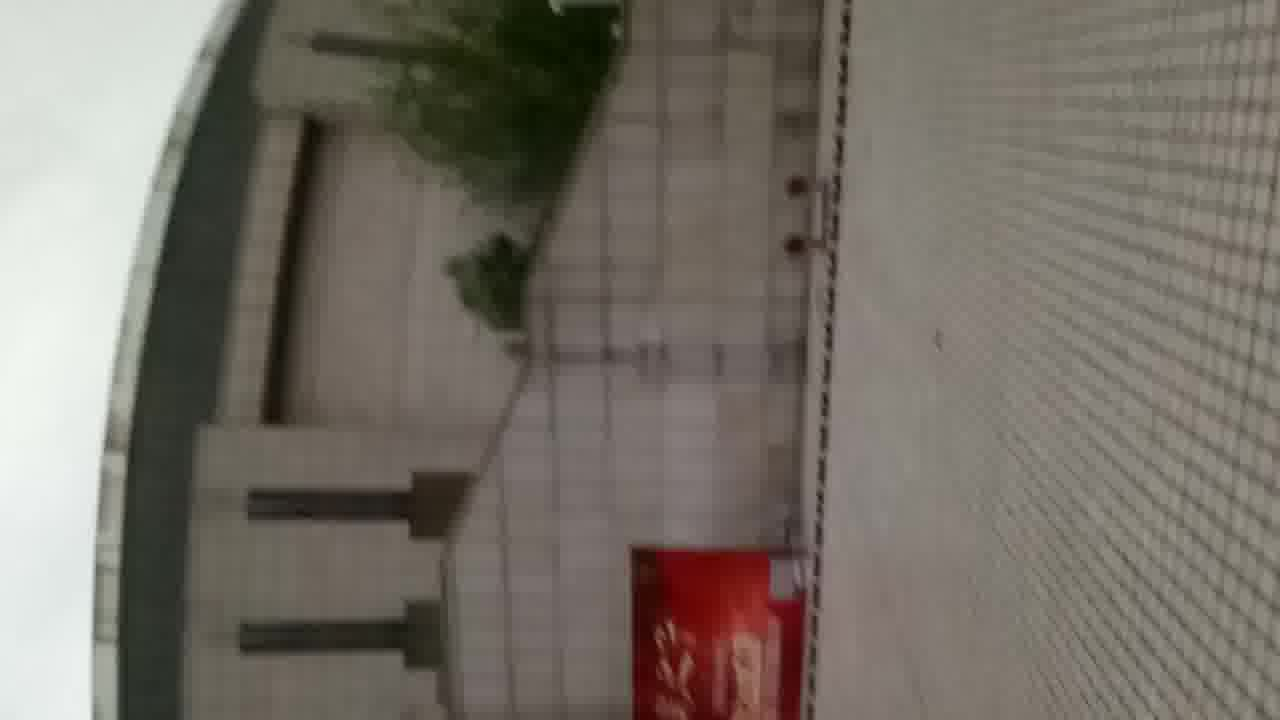zhongtiww: (91, 14, 842, 720)
